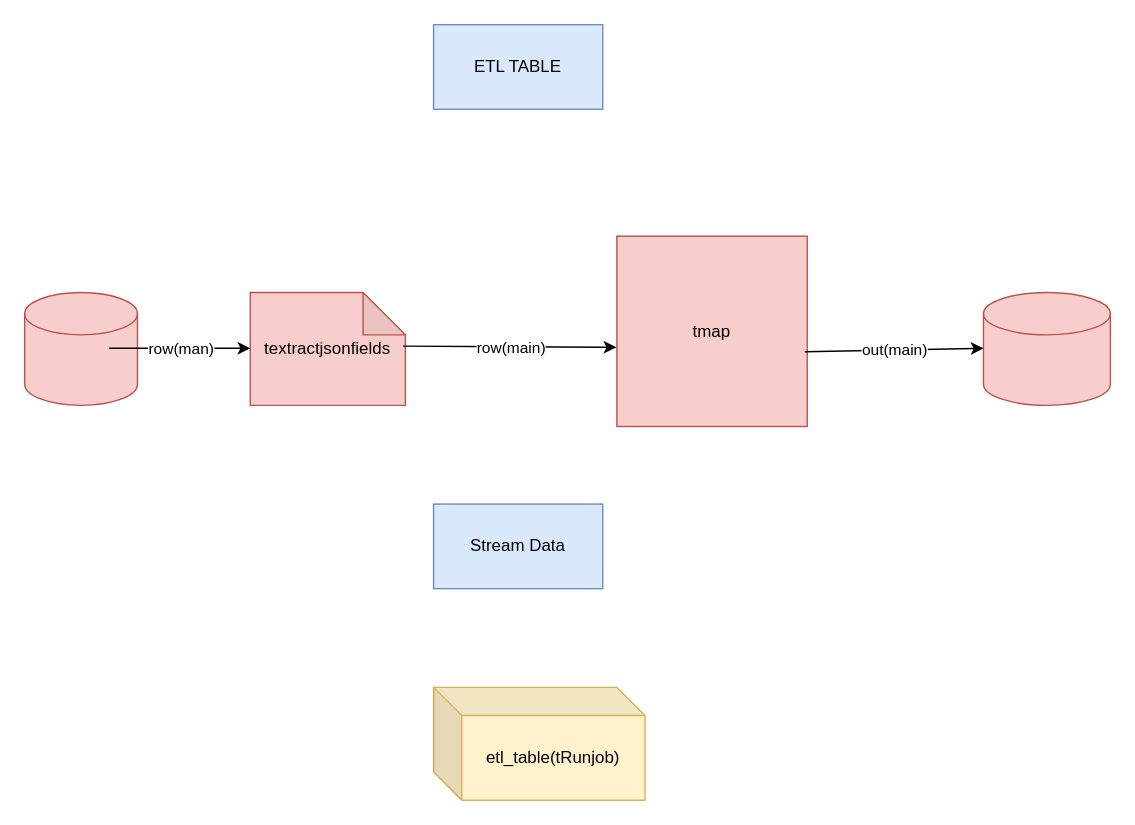
Image size: 1135x825. Some labels were removed from this diagram. Here are the shapes that lost their labels. From the top down, the centre of each, then its label:
(x=80, y=348): tkafkainput
(x=1046, y=348): tdboutput
